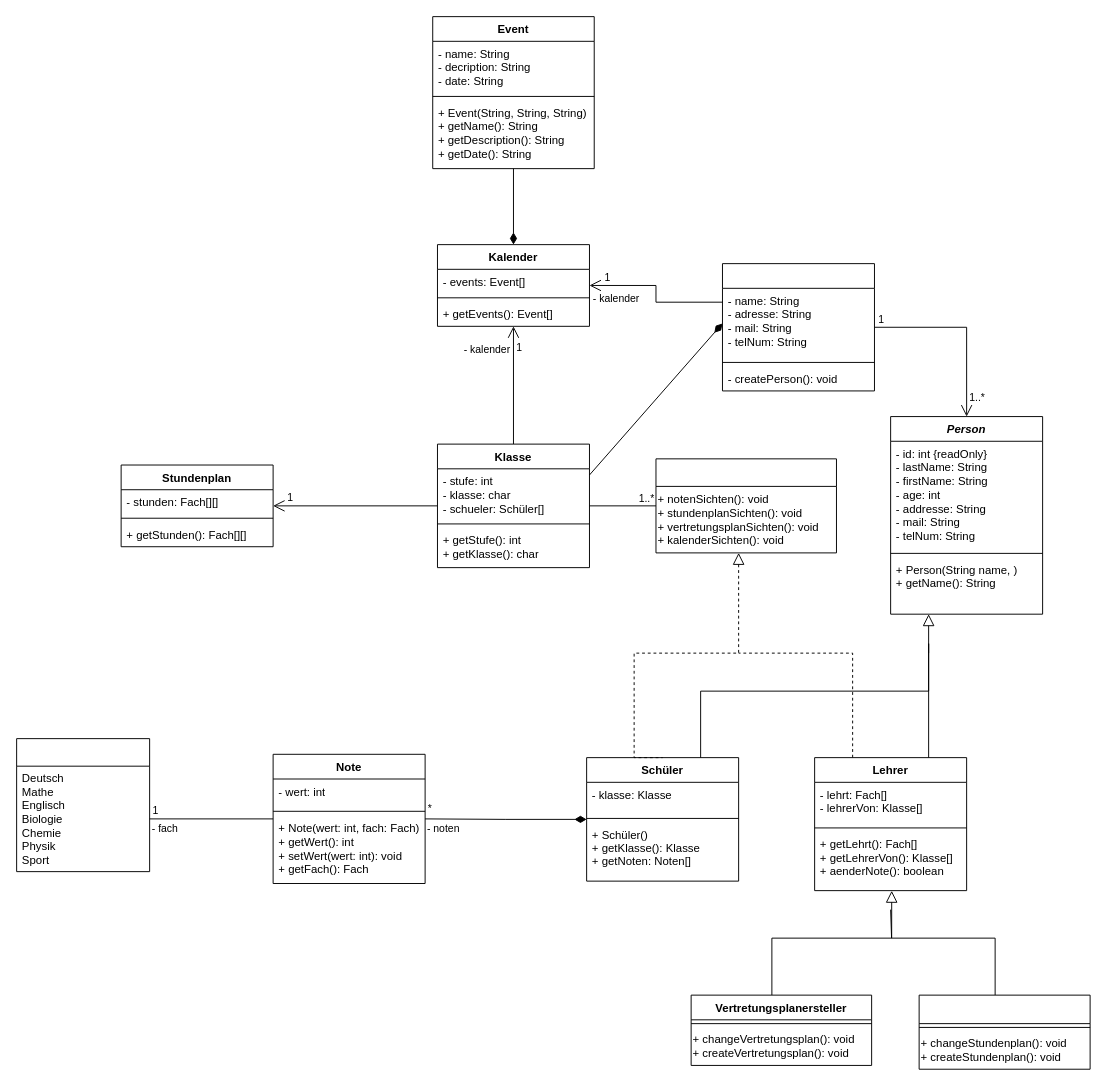
This 1107x1086 diagram has some shape labels left out. Each missing label, with the box of its shape:
<<enumeration>> Fach: (16, 738, 150, 872)
<<interface>> Unterrichtsgemeinschaft: (655, 458, 836, 553)
School: (722, 263, 874, 391)
Stundenplanersteller: (918, 994, 1090, 1069)
